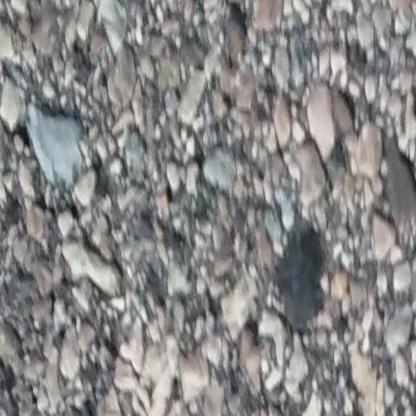Cracks: (395, 142, 416, 245)
